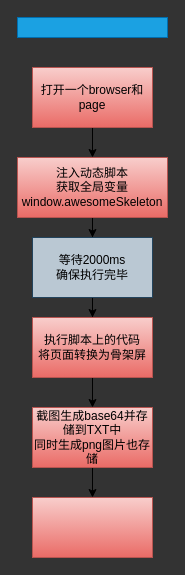
This 185x575 diagram has some shape labels left out. The box of each missing label's shape, as (x1, y1, x2, y2) in pixels:
标红的5个都是重点步骤: (16, 16, 168, 38)
生成可注入的HTML和CSS脚本，存入html文件中: (32, 496, 152, 558)
